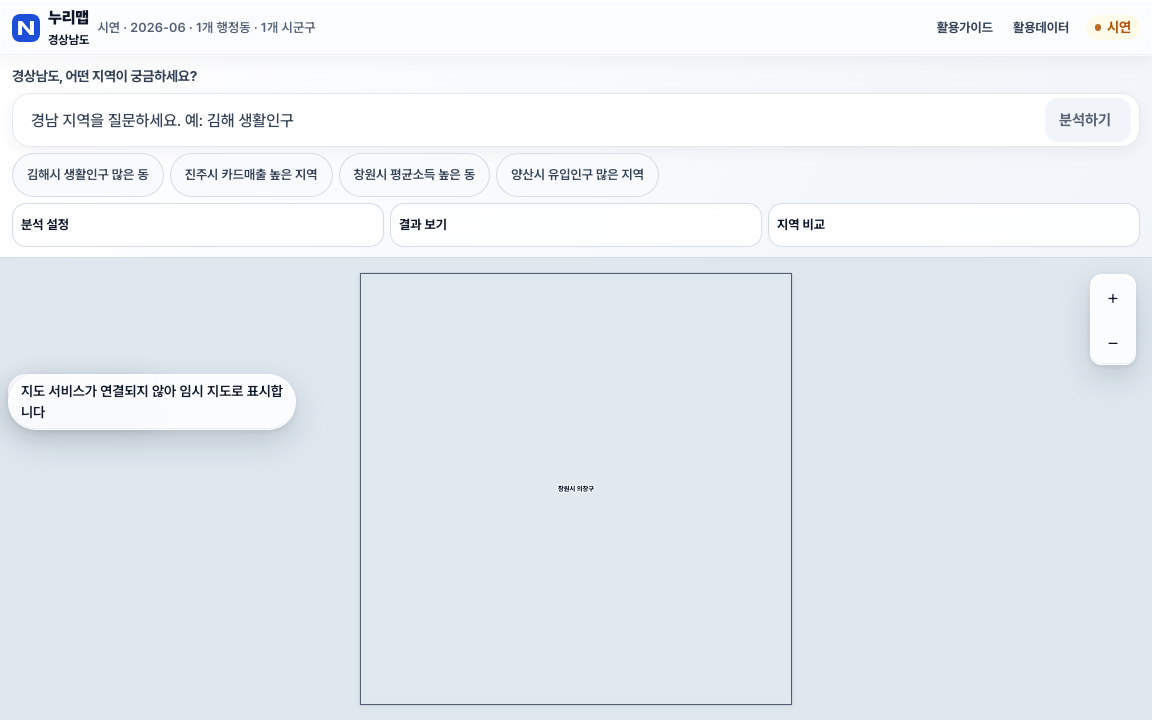
Test: CopilotApp › 동명이동 질문은 분석을 실행하지 않고 관할지역 선택 질문을 제시한다
Expected: the text "경상남도 · 시군구 경계" is shown, [8,374,157,409]
Type "중앙동 카드매출 높은 곳" into the field named "분석 질의".
click(576, 120); type("중앙동 카드매출 높은 곳")  # box [13,94,1139,146]
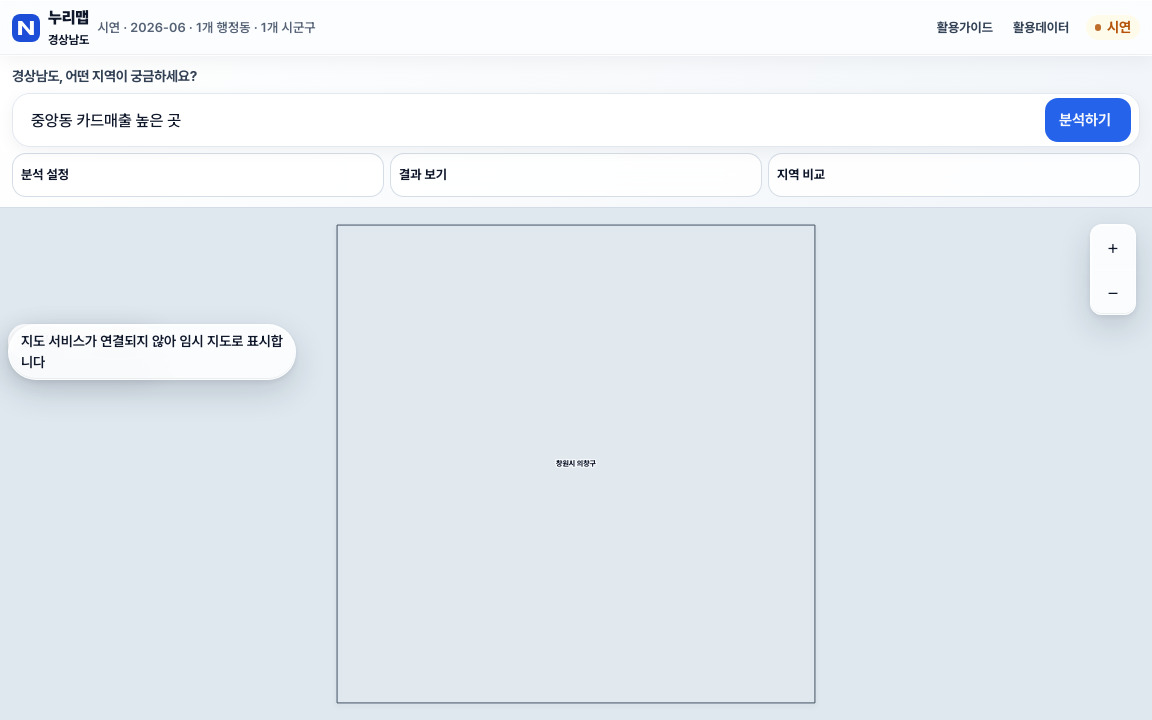
Click the button with aria-label "질의 실행".
click(1088, 120)  # box [1045,98,1131,142]
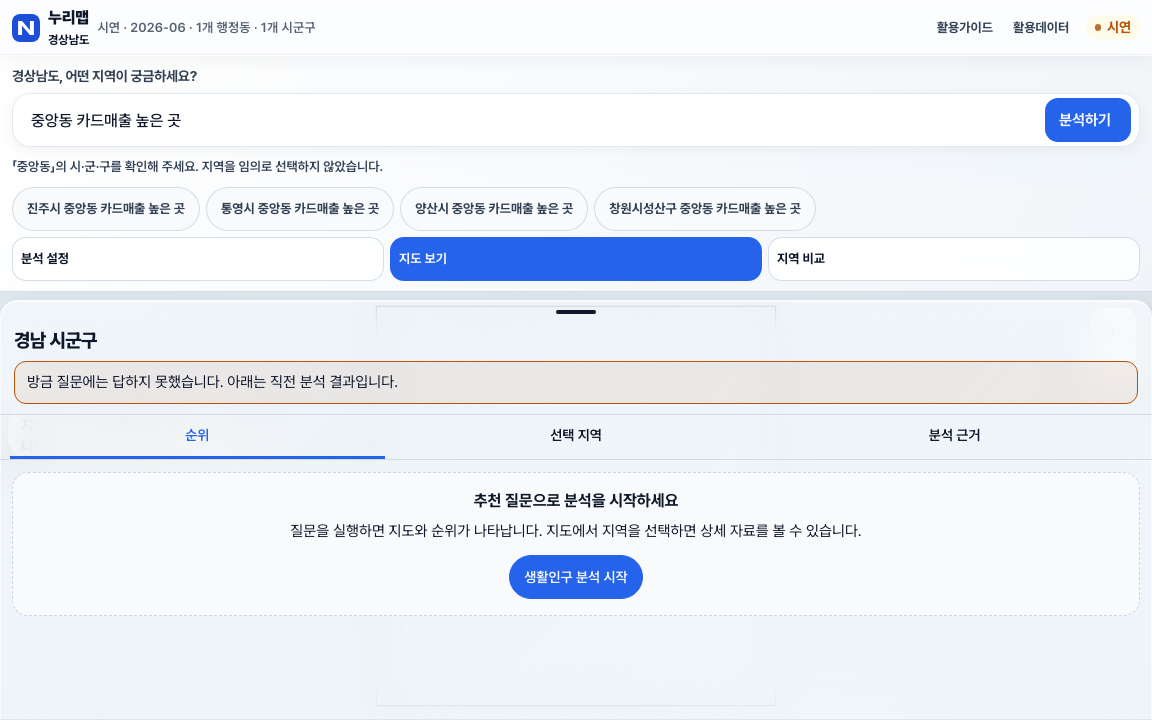
Expected: the text "「중앙동」의 시·군·구를 확인해 주세요. 지역을 임의로 선택하지 않았습니다." is shown, [12,159,383,174]
Expected: the button "양산시 중앙동 카드매출 높은 곳" is shown, [400,187,588,231]
